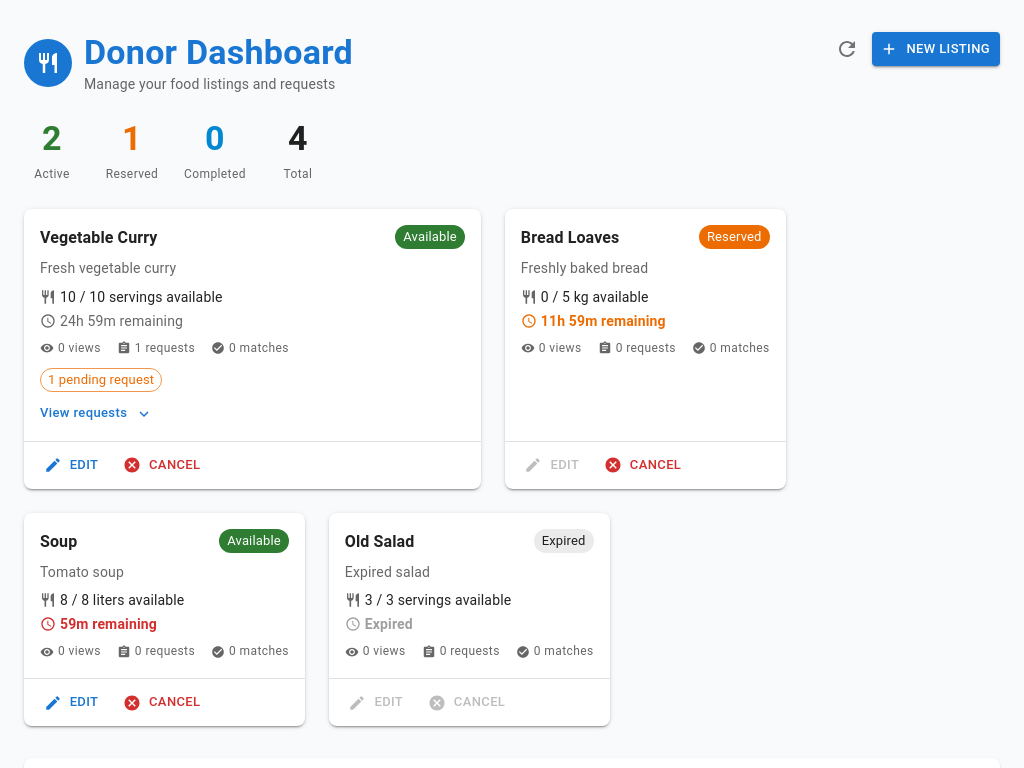
Test case: DonorDashboard › cancel button opens confirmation dialog with reason input
Check: the heading "Vegetable Curry" is shown, box [40,225,158,250]
Click the button with test id "cancel-btn-1" at (163, 466), box [120,450,206,481]
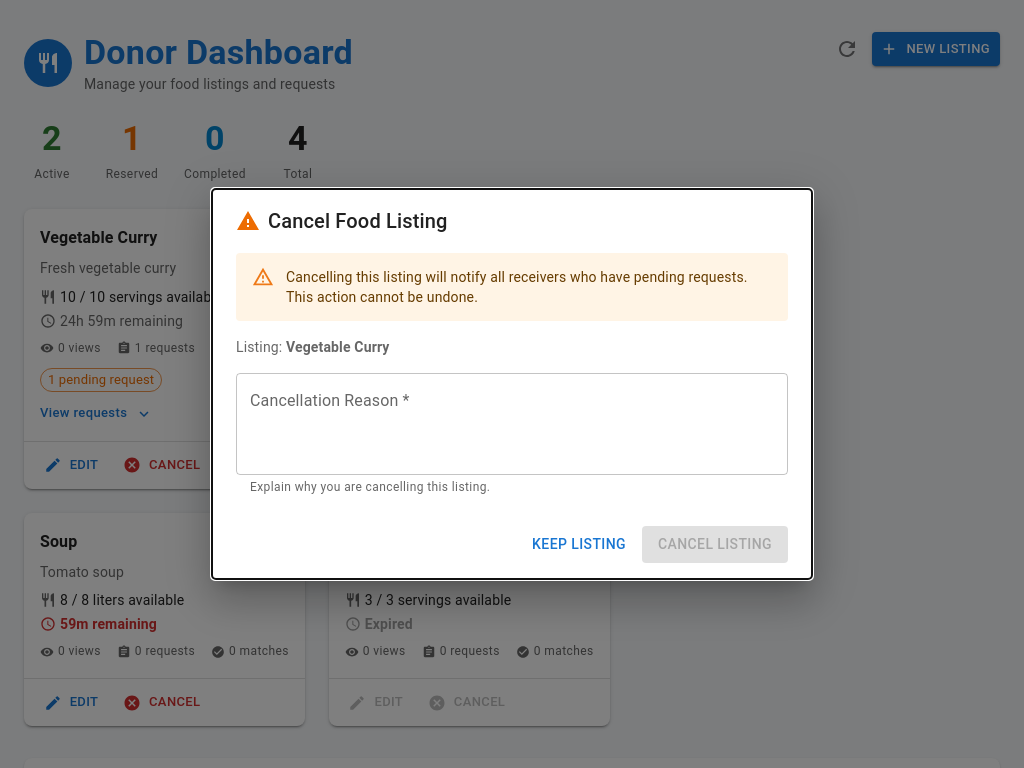
Check: the text "Cancel Food Listing" is shown, box [236,209,448,233]
Check: the text box labelled "Cancellation Reason *" is shown, box [250,390,774,459]
